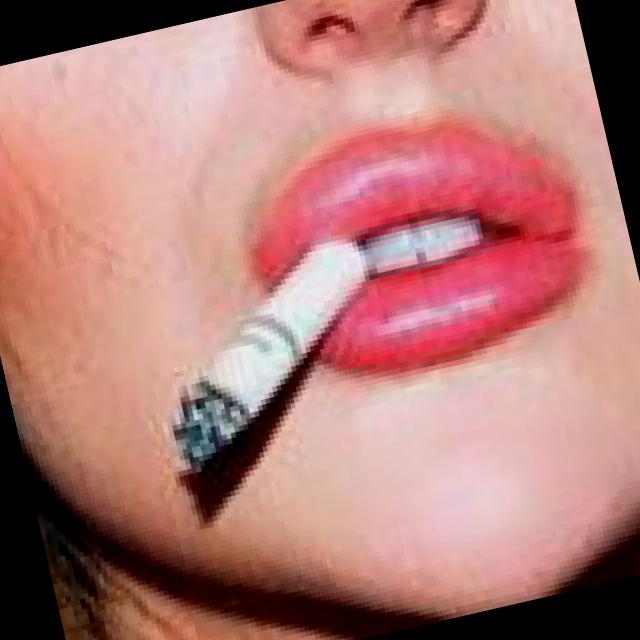cigarette: (137, 228, 422, 471)
